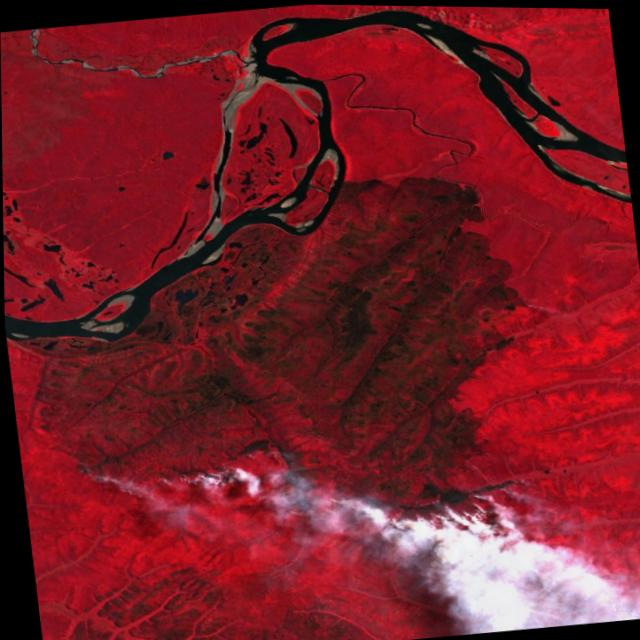fire: (164, 419, 536, 564)
